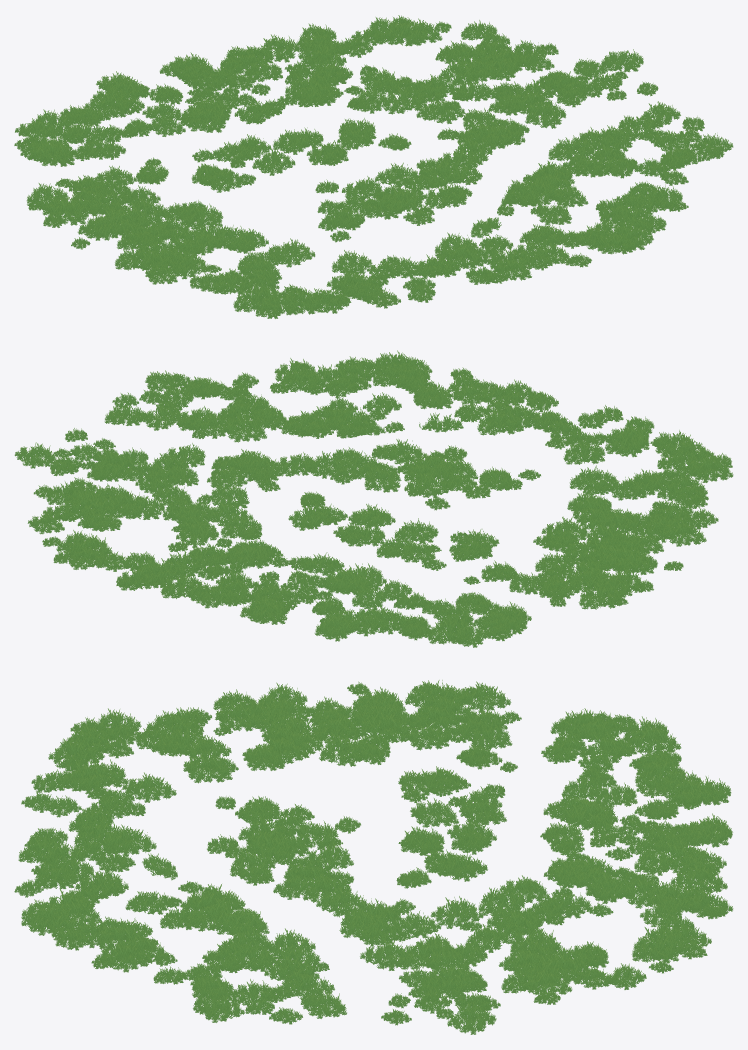
File: grassCardFlood.fbx
3 renders of one model, top to bottom at view 1: azimuth 30°, elevation 25°; view 2: azimuth 150°, elevation 25°; view 3: azimuth 270°, elevation 25°, orthographic. The views are drawn at different scales.
Visible parts, largest first — view 1: grassCardChunkChunk.004; view 2: grassCardChunkChunk.004; view 3: grassCardChunkChunk.004.
Part boxes in pixels (x1,y1,x2,y2): grassCardChunkChunk.004: [14, 15, 733, 318]; grassCardChunkChunk.004: [14, 350, 733, 647]; grassCardChunkChunk.004: [14, 680, 733, 1034].
Size of the model in its own units: 9409 by 275 by 8191.
1 material, 1 textured.
